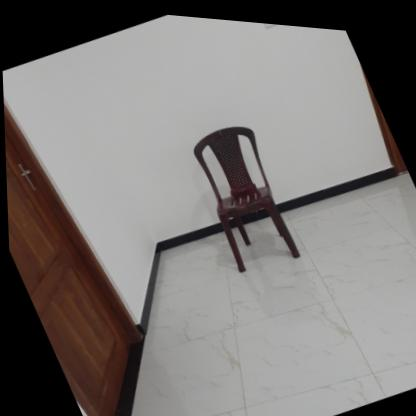Chair: (179, 108, 307, 275)
